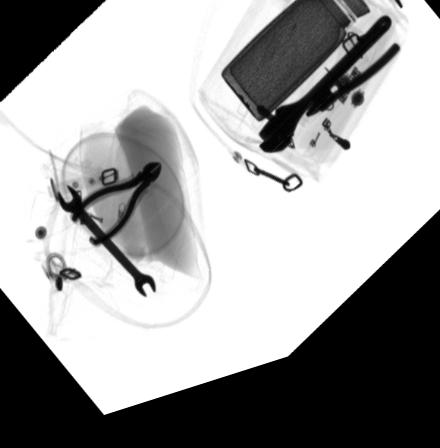Pliers: (303, 44, 397, 137), (67, 170, 160, 251)
Wrench: (257, 35, 394, 168), (54, 187, 156, 306)
